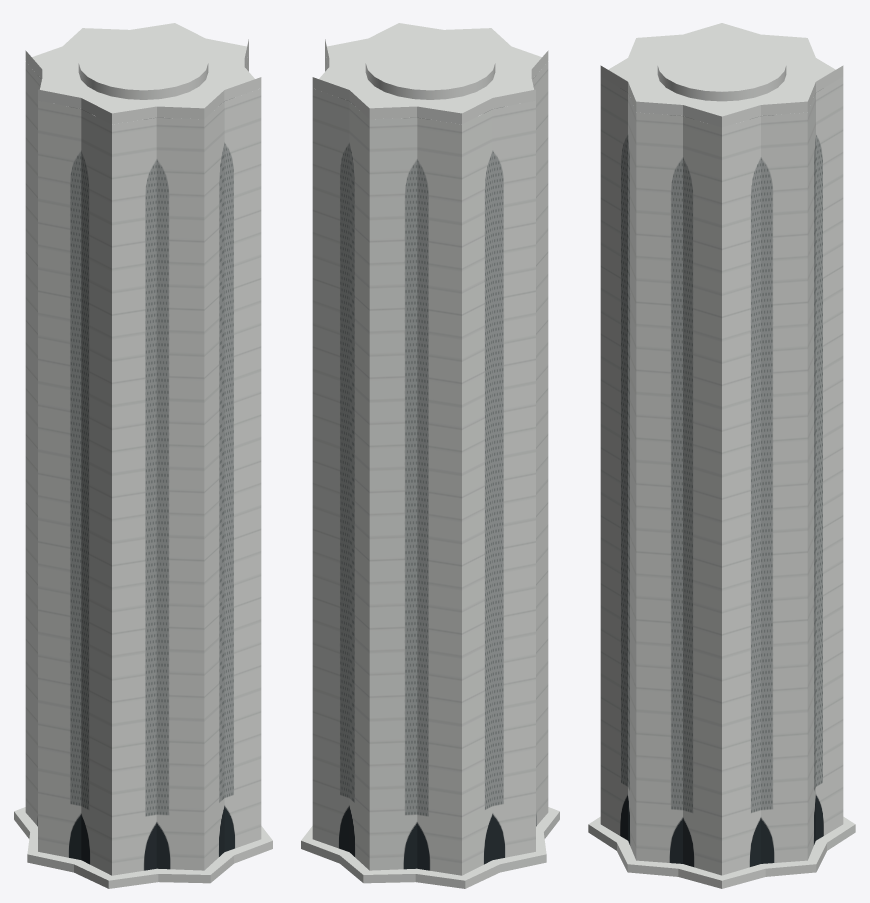
File: menara-dayabumi.glb
3 renders of one model, left to right at view 1: azimuth 30°, elevation 25°; view 2: azimuth 150°, elevation 25°; view 3: azimuth 270°, elevation 25°, orthographic.
Parts seen in each view (by area): view 1: Dayabumi; view 2: Dayabumi; view 3: Dayabumi.
Boxes of the visible parts, left/top/right/bottom form: Dayabumi: left=14, top=23, right=272, bottom=888; Dayabumi: left=301, top=23, right=559, bottom=888; Dayabumi: left=588, top=23, right=855, bottom=888.
Size of the model in its own units: 49.47 by 157 by 49.47.
2 materials, 1 textured.
